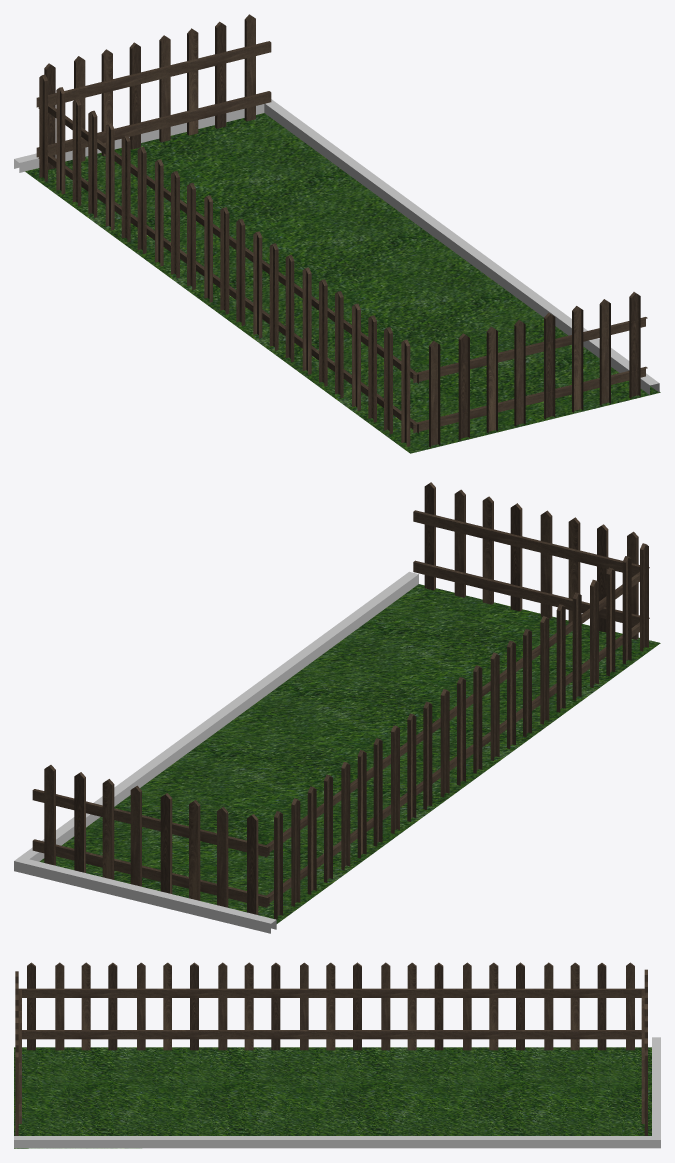
File: M_Dogcaodi01.FBX
3 renders of one model, top to bottom at view 1: azimuth 30°, elevation 25°; view 2: azimuth 150°, elevation 25°; view 3: azimuth 270°, elevation 25°, orthographic. The views are drawn at different scales.
Visible parts, largest first — view 1: M_Dogcaodi01_02, M_Dogcaodi01_03, M_Dogcaodi01_01; view 2: M_Dogcaodi01_02, M_Dogcaodi01_03, M_Dogcaodi01_01; view 3: M_Dogcaodi01_02, M_Dogcaodi01_03, M_Dogcaodi01_01.
Boxes of the visible parts, x1,y1,x2,y2 form: M_Dogcaodi01_02: (25, 113, 660, 453); M_Dogcaodi01_03: (36, 14, 647, 447); M_Dogcaodi01_01: (14, 99, 659, 394); M_Dogcaodi01_02: (39, 584, 660, 923); M_Dogcaodi01_03: (32, 482, 649, 919); M_Dogcaodi01_01: (14, 571, 418, 933); M_Dogcaodi01_02: (14, 1047, 651, 1148); M_Dogcaodi01_03: (15, 962, 647, 1135); M_Dogcaodi01_01: (14, 1037, 660, 1148).
Bounding box in the file's own units: 2.22 × 0.8721 × 5.89.
